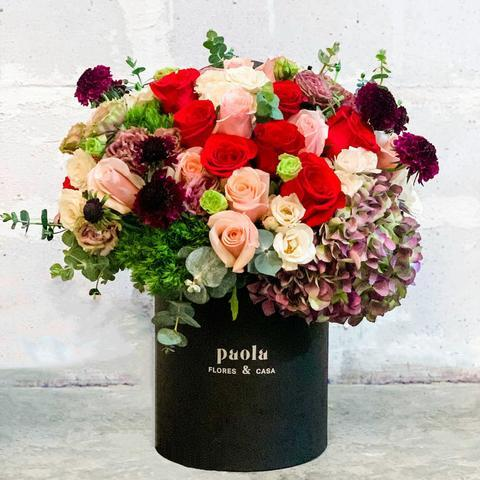RedRose: (286, 153, 340, 226), (325, 104, 381, 159), (166, 93, 221, 147), (248, 117, 300, 172), (201, 133, 259, 177), (146, 67, 208, 106), (267, 74, 313, 117)
